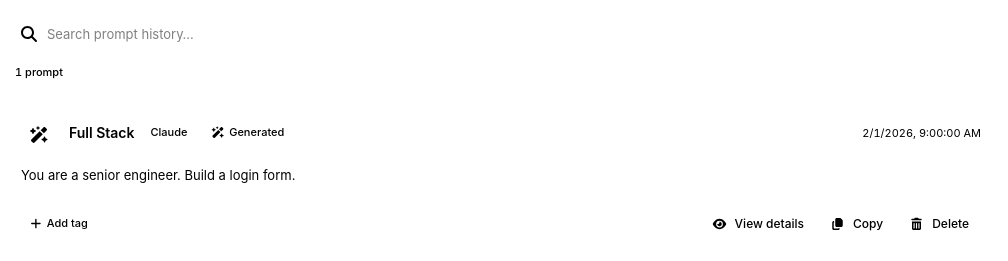
Test: PromptHistoryPage search › searches for what is in the box and says so when nothing matches
Expected: the text "You are a senior engineer. Build a login form." is shown, [21,166,295,182]
Type "login" into the field with placeholder "Search prompt history…" at (519, 34), box [47,16,991,52]
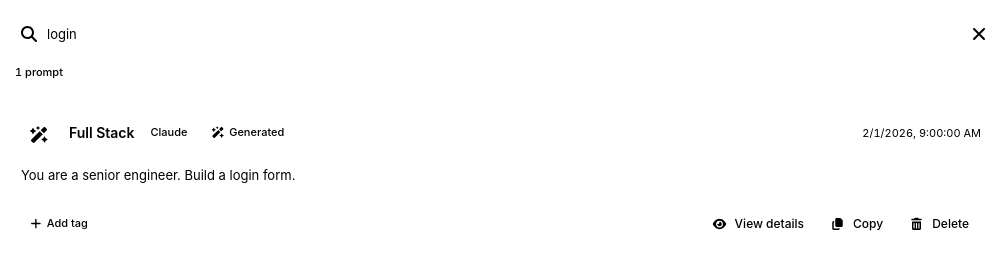
Expected: the text "You are a senior engineer. Build a login form." is shown, [21,166,295,182]
Clear the field with placeholder "Search prompt history…" at (503, 34), box [47,16,959,52]
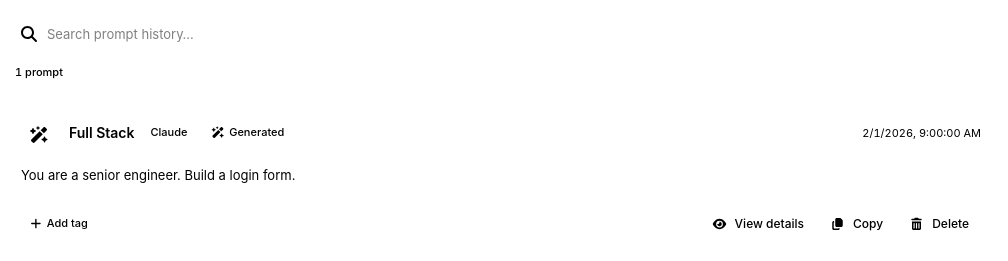
Type "nope" into the field with placeholder "Search prompt history…" at (519, 34), box [47,16,991,52]
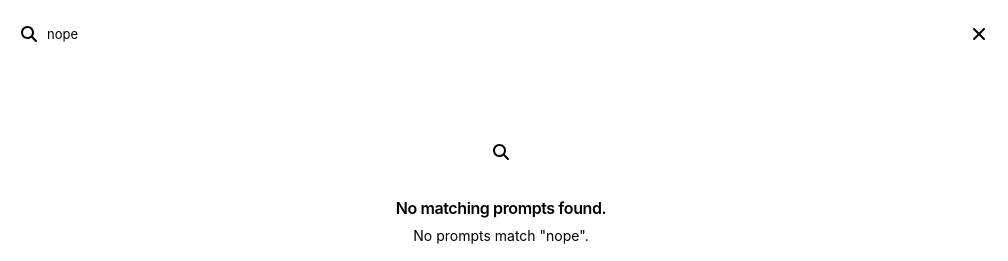
Now the text "No matching prompts found." is shown, box [396,196,606,220]
Now the text "No prompts match \"nope\"." is shown, box [413,227,589,244]
